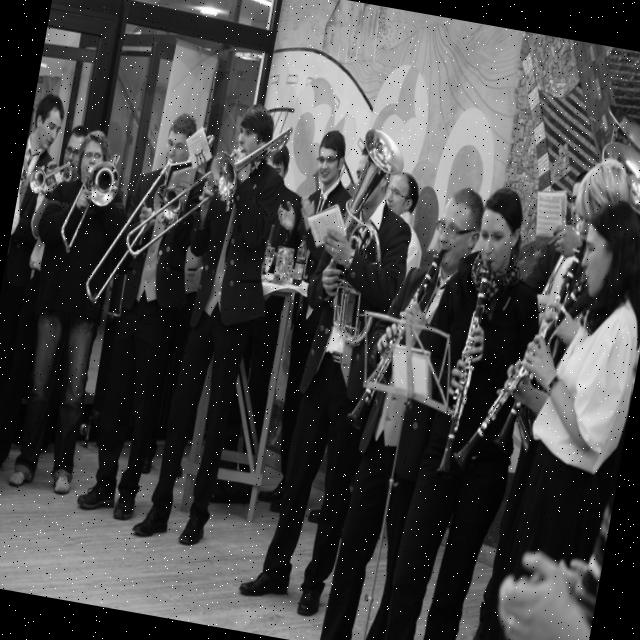clarinet: (450, 260, 590, 487), (488, 232, 588, 463), (342, 234, 449, 446), (430, 257, 496, 487)
